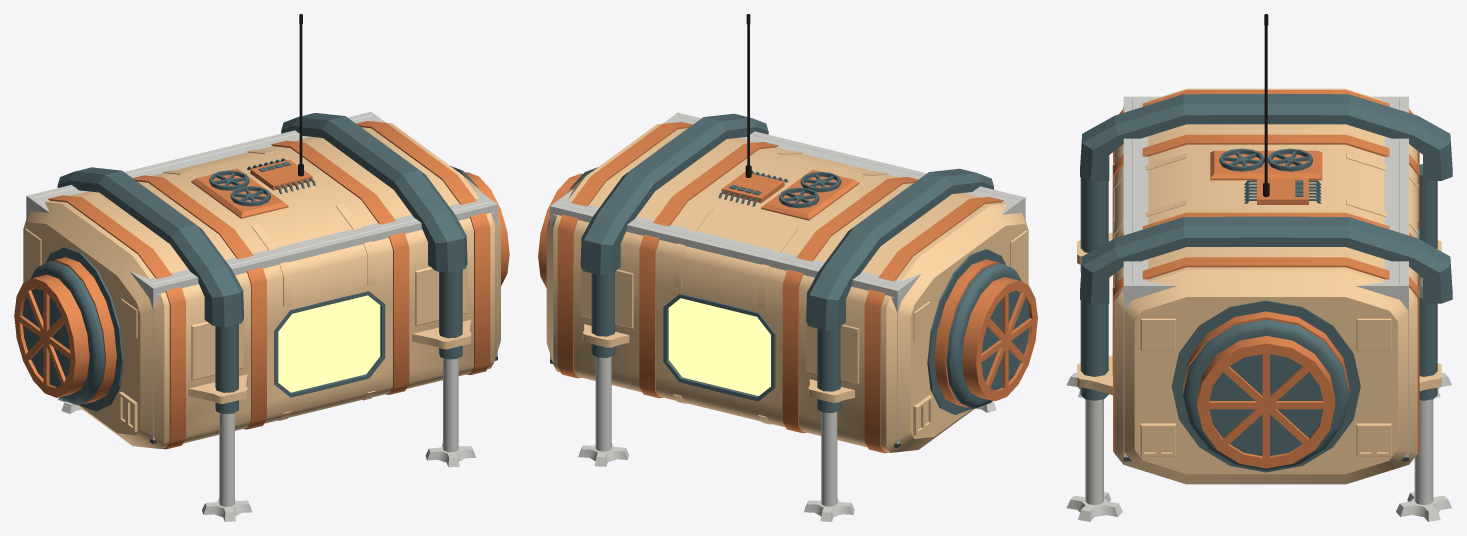
The model's file is colony_hab_pod.fbx.
The picture shows the model from 3 angles, left to right: view 1: azimuth 30°, elevation 25°; view 2: azimuth 150°, elevation 25°; view 3: azimuth 270°, elevation 25°; orthographic projection. The views are drawn at different scales.
Parts seen in each view (by area): view 1: HabPod.MA.Cube, HabPod.MA.Liner, HabPod.MA.Cube.003, HabPod.door0.Cylinder.008, HabPod.MA.Cube.005, HabPod.MA.Cube.004, HabPod.MA.Cube.007, HabPod.MA.Cube.006, HabPod.MA.Cylinder.006, HabPod.MA.Cylinder.007, HabPod.MA.Cube.011, HabPod.MA.Cylinder.005 (+13 smaller); view 2: HabPod.MA.Cube, HabPod.MA.Liner, HabPod.MA.Cube.003, HabPod.door0.Cylinder.008, HabPod.MA.Cube.005, HabPod.MA.Cube.004, HabPod.MA.Cube.006, HabPod.MA.Cube.007, HabPod.MA.Cylinder.006, HabPod.MA.Cylinder.007, HabPod.MA.Cylinder.005, HabPod.MA.Cube.011 (+12 smaller); view 3: HabPod.MA.Cube, HabPod.MA.Cube.003, HabPod.MA.Cylinder.008, HabPod.MA.Cylinder.007, HabPod.MA.Liner, HabPod.MA.Cylinder.002, HabPod.MA.Cube.004, HabPod.MA.Cylinder.006, HabPod.MA.Cube.006, HabPod.MA.Plane.005, HabPod.MA.Plane.004, HabPod.MA.Cube.012 (+8 smaller).
Part boxes in pixels (x1,y1,x2,y2): HabPod.MA.Cube: (23, 121, 500, 448); HabPod.MA.Liner: (26, 112, 497, 444); HabPod.MA.Cube.003: (57, 113, 467, 327); HabPod.door0.Cylinder.008: (14, 257, 116, 405); HabPod.MA.Cube.005: (48, 195, 185, 449); HabPod.MA.Cube.004: (356, 121, 490, 374); HabPod.MA.Cube.007: (271, 140, 409, 394); HabPod.MA.Cube.006: (133, 175, 266, 429); HabPod.MA.Cylinder.006: (58, 324, 251, 521); HabPod.MA.Cylinder.007: (425, 269, 475, 467); HabPod.MA.Cube.011: (274, 291, 385, 397); HabPod.MA.Cylinder.005: (46, 247, 123, 411); HabPod.MA.Cube: (546, 122, 1028, 452); HabPod.MA.Liner: (550, 112, 1025, 447); HabPod.MA.Cube.003: (580, 113, 994, 330); HabPod.door0.Cylinder.008: (934, 259, 1037, 408); HabPod.MA.Cube.005: (864, 197, 1003, 453); HabPod.MA.Cube.004: (557, 122, 692, 378); HabPod.MA.Cube.006: (782, 177, 917, 433); HabPod.MA.Cube.007: (639, 142, 778, 398); HabPod.MA.Cylinder.006: (804, 326, 996, 521); HabPod.MA.Cylinder.007: (578, 271, 628, 466); HabPod.MA.Cylinder.005: (927, 249, 1005, 414); HabPod.MA.Cube.011: (663, 293, 775, 401); HabPod.MA.Cube: (1114, 88, 1417, 484); HabPod.MA.Cube.003: (1080, 94, 1452, 303); HabPod.MA.Cylinder.008: (1183, 311, 1349, 470); HabPod.MA.Cylinder.007: (1066, 287, 1451, 521); HabPod.MA.Liner: (1123, 96, 1409, 461); HabPod.MA.Cylinder.002: (1171, 300, 1360, 472); HabPod.MA.Cube.004: (1113, 257, 1419, 453); HabPod.MA.Cylinder.006: (1067, 164, 1451, 397); HabPod.MA.Cube.006: (1113, 134, 1419, 238); HabPod.MA.Plane.005: (1140, 423, 1391, 456); HabPod.MA.Plane.004: (1140, 318, 1391, 350); HabPod.MA.Cube.012: (1210, 150, 1322, 180).
Size of the model in its own units: 1678 by 1493 by 1148.
